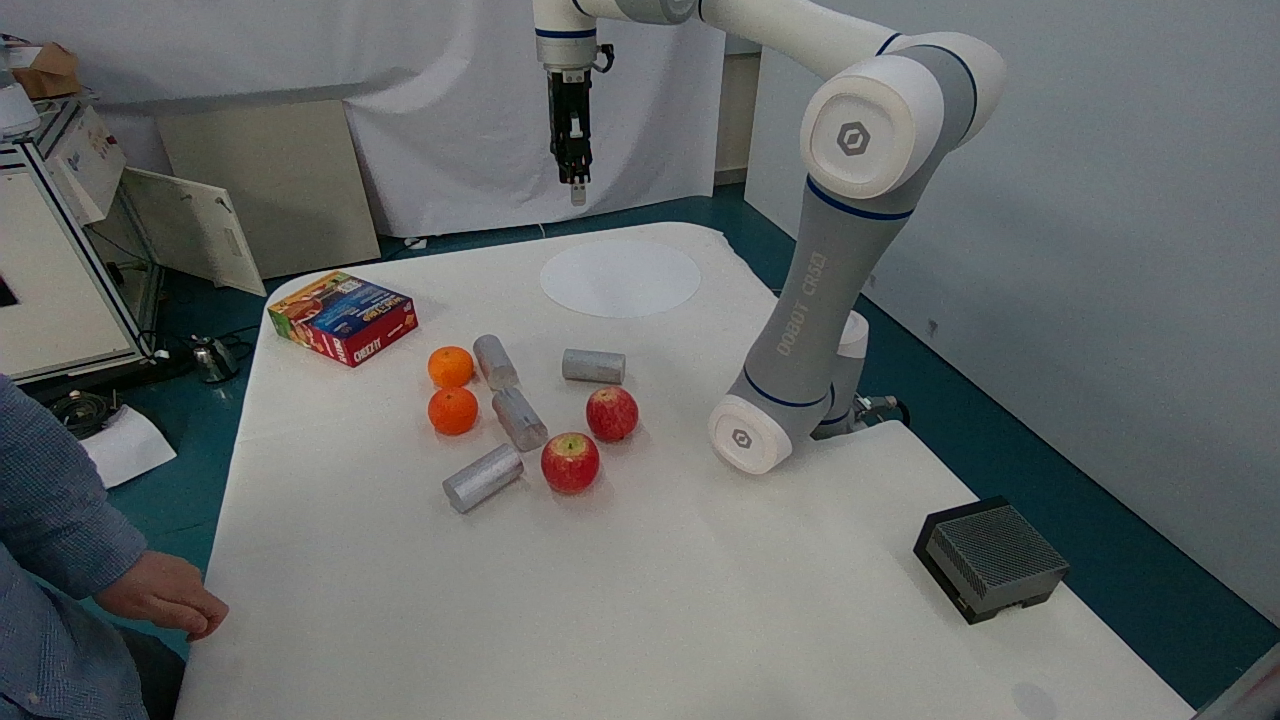apple: (528, 423, 613, 504), (583, 377, 650, 451)
metal rod: (430, 431, 533, 527), (476, 374, 559, 458), (550, 335, 635, 394), (462, 325, 532, 394)
orange: (410, 374, 490, 435), (416, 332, 482, 391)
